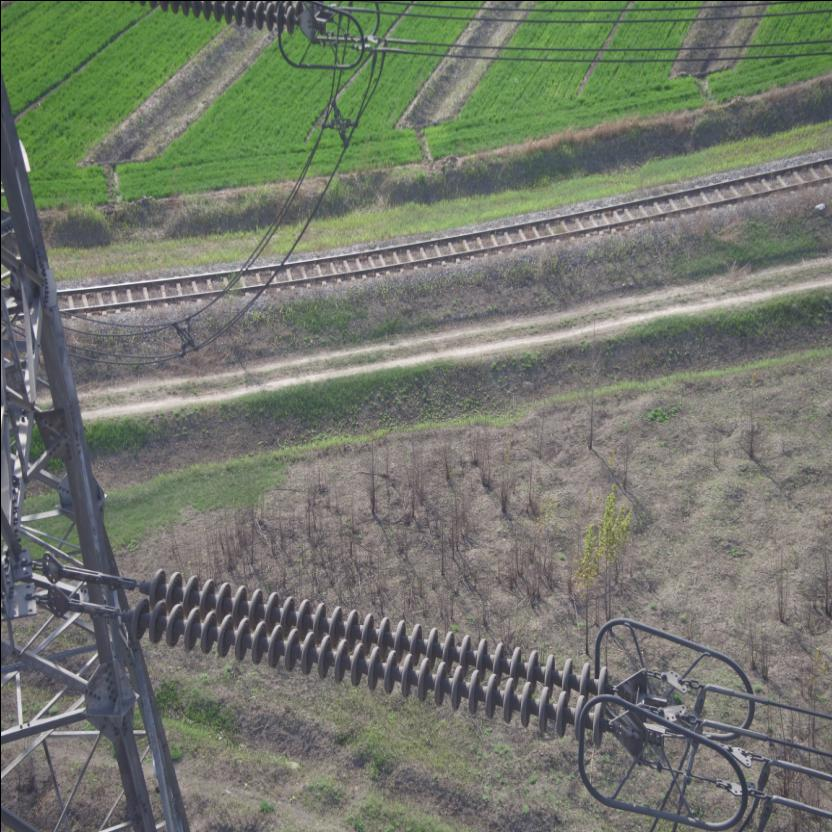insulator: (98, 560, 630, 748)
